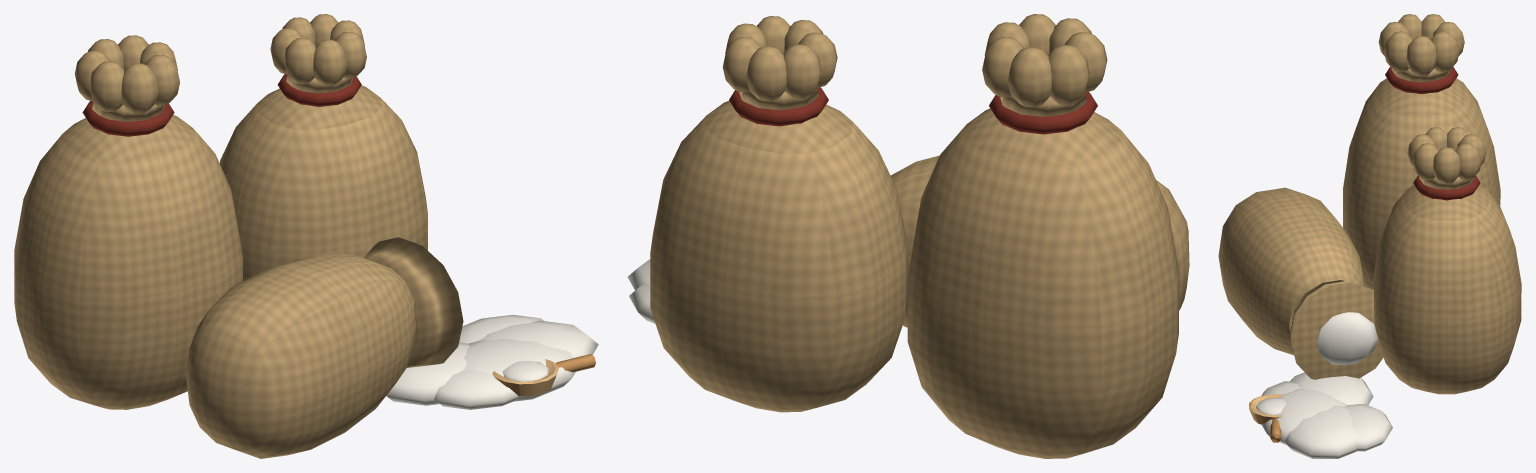
Rendered from flour_sacks.glb.
3 renders of one model, left to right at view 1: azimuth 30°, elevation 25°; view 2: azimuth 150°, elevation 25°; view 3: azimuth 270°, elevation 25°, orthographic. The views are drawn at different scales.
Visible parts, largest first — view 1: model; view 2: model; view 3: model.
Part boxes in pixels (x1,y1,x2,y2): model: [14, 14, 598, 458]; model: [627, 14, 1189, 458]; model: [1218, 14, 1521, 458].
Size of the model in its own units: 0.917 by 0.6339 by 0.6025.
5 materials, 3 textured.
